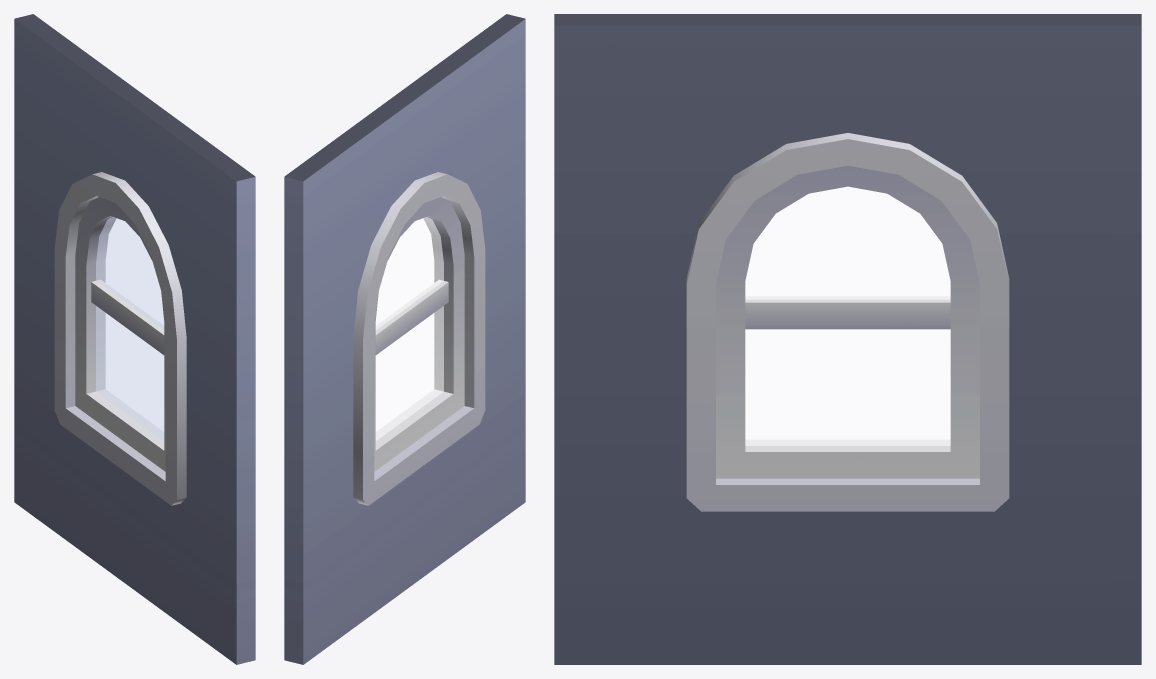
File: kenney-building-wall-window-round-detailed.glb
The picture shows the model from 3 angles, left to right: view 1: azimuth 30°, elevation 25°; view 2: azimuth 150°, elevation 25°; view 3: azimuth 270°, elevation 25°; orthographic projection. The views are drawn at different scales.
Parts seen in each view (by area): view 1: wall-window-round-detailed, (%ignore); view 2: wall-window-round-detailed, (%ignore); view 3: wall-window-round-detailed, (%ignore).
Boxes of the visible parts, x1,y1,x2,y2 form: wall-window-round-detailed: (14,14,255,664); (%ignore): (96,217,164,440); wall-window-round-detailed: (284,14,525,664); (%ignore): (375,217,443,440); wall-window-round-detailed: (554,14,1141,664); (%ignore): (745,186,950,445).
Bounding box in the file's own units: 0.2001 × 2.4 × 2.
Materials: 2 (1 with a texture image).
